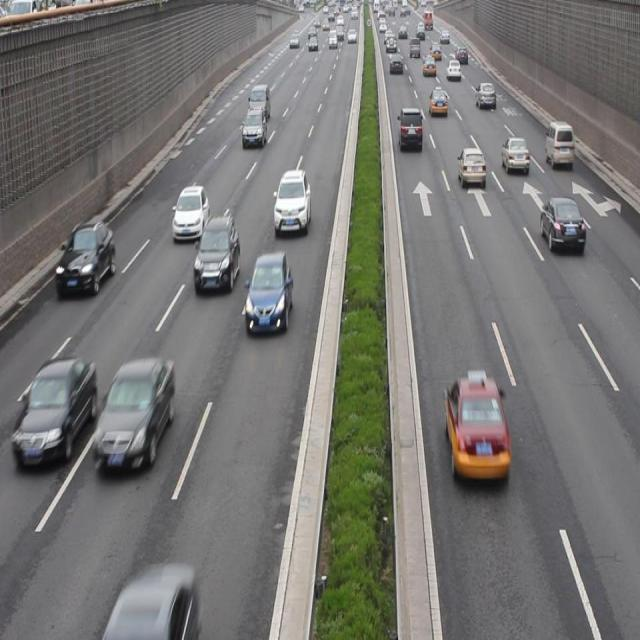car: (97, 355, 175, 468), (12, 359, 96, 461), (102, 562, 198, 640), (443, 369, 508, 484), (55, 218, 116, 294), (243, 254, 292, 336), (194, 215, 240, 295), (171, 184, 212, 246), (274, 170, 310, 233), (540, 201, 584, 252), (456, 146, 485, 190), (500, 138, 529, 177), (397, 109, 422, 152), (240, 107, 266, 145)
truck: (543, 120, 572, 166)
